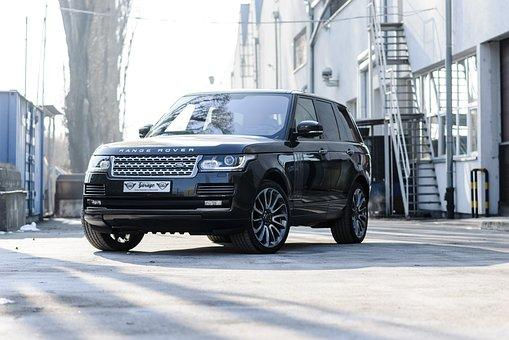range rover: (117, 145, 197, 158)
